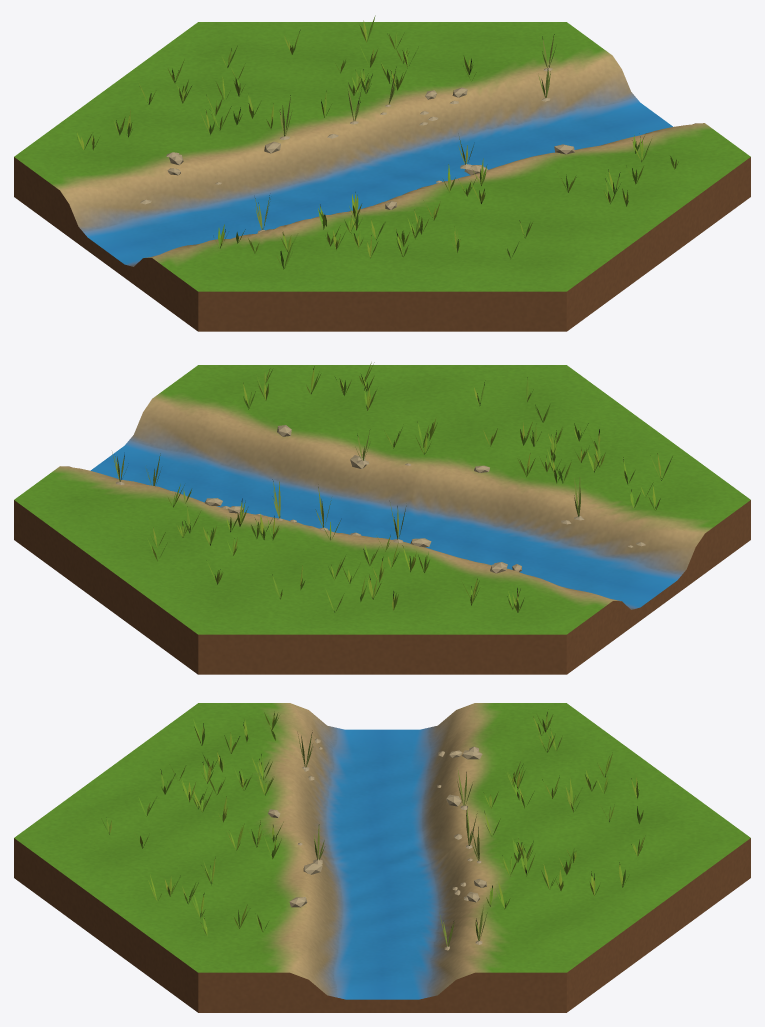
File: SM_Agua_RioRecto_Detalle_LOD0.fbx
3 views of the same model, one above another, from view 1: azimuth 30°, elevation 25°; view 2: azimuth 150°, elevation 25°; view 3: azimuth 270°, elevation 25° (orthographic).
Visible parts, largest first — view 1: SM_Agua_RioRecto_Detalle_LOD0; view 2: SM_Agua_RioRecto_Detalle_LOD0; view 3: SM_Agua_RioRecto_Detalle_LOD0.
Boxes of the visible parts, left/top/right/bottom form: SM_Agua_RioRecto_Detalle_LOD0: left=14, top=15, right=750, bottom=331; SM_Agua_RioRecto_Detalle_LOD0: left=14, top=362, right=750, bottom=674; SM_Agua_RioRecto_Detalle_LOD0: left=14, top=703, right=750, bottom=1012.
Size of the model in its own units: 1.73 by 0.2531 by 2.
1 material, 1 textured.
